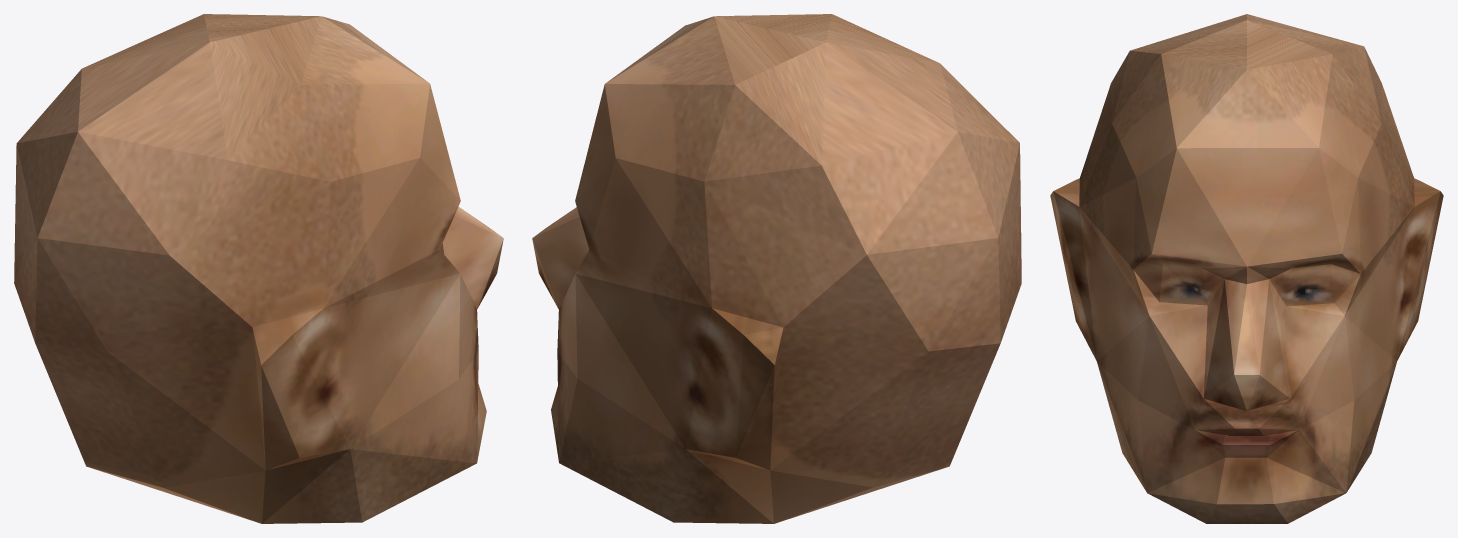
File: PYMONTE.glb
The picture shows the model from 3 angles, left to right: view 1: azimuth 30°, elevation 25°; view 2: azimuth 150°, elevation 25°; view 3: azimuth 270°, elevation 25°; orthographic projection. The views are drawn at different scales.
Visible parts, largest first — view 1: zm_Morph; view 2: zm_Morph; view 3: zm_Morph.
Part boxes in pixels (x1=…): zm_Morph: x1=14, y1=14, x2=503, y2=523; zm_Morph: x1=532, y1=14, x2=1021, y2=523; zm_Morph: x1=1050, y1=14, x2=1443, y2=523.
Size of the model in its own units: 0.2319 by 0.2311 by 0.1932.
3 materials, 3 textured.
